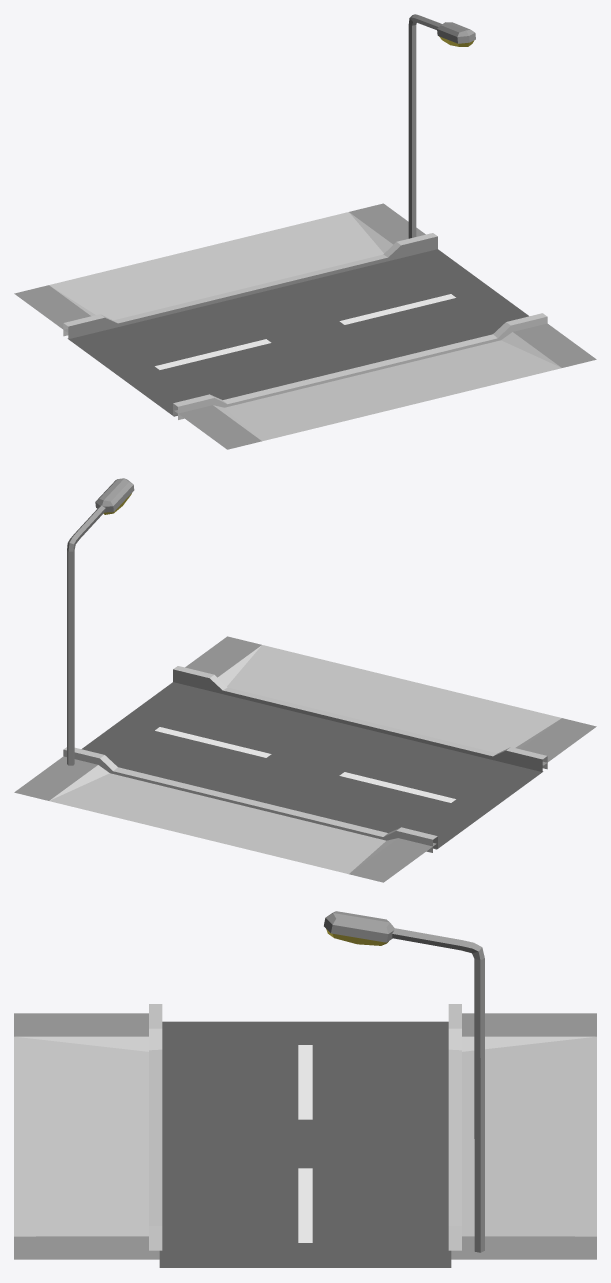
Rendered from road_tile_1x1_007.glb.
3 views of the same model, one above another, from view 1: azimuth 30°, elevation 25°; view 2: azimuth 150°, elevation 25°; view 3: azimuth 270°, elevation 25° (orthographic). The views are drawn at different scales.
Visible parts, largest first — view 1: road_tile_1x1_007; view 2: road_tile_1x1_007; view 3: road_tile_1x1_007.
Part boxes in pixels (x1,y1,x2,y2): road_tile_1x1_007: (14, 14, 596, 449); road_tile_1x1_007: (14, 478, 596, 882); road_tile_1x1_007: (14, 911, 596, 1267).
Bounding box in the file's own units: 8 × 5.25 × 8.
1 material, 1 textured.
